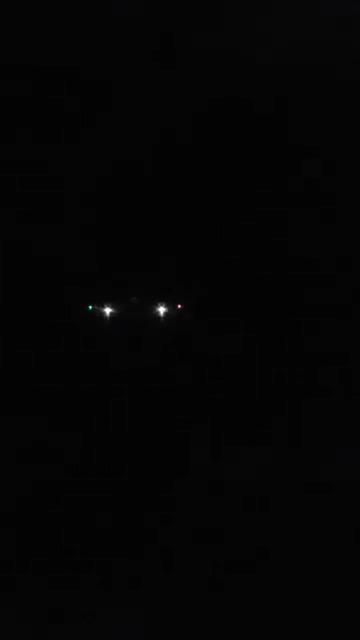Plane: (61, 263, 212, 347)
